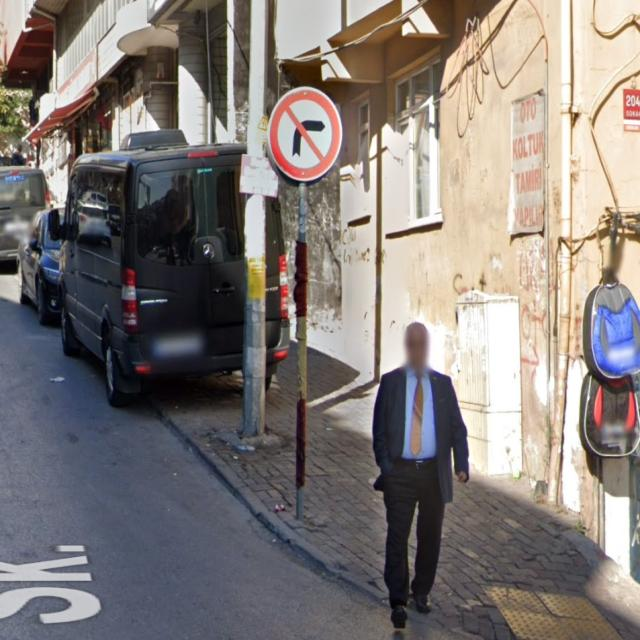sagadonulmez: (268, 87, 342, 181)
